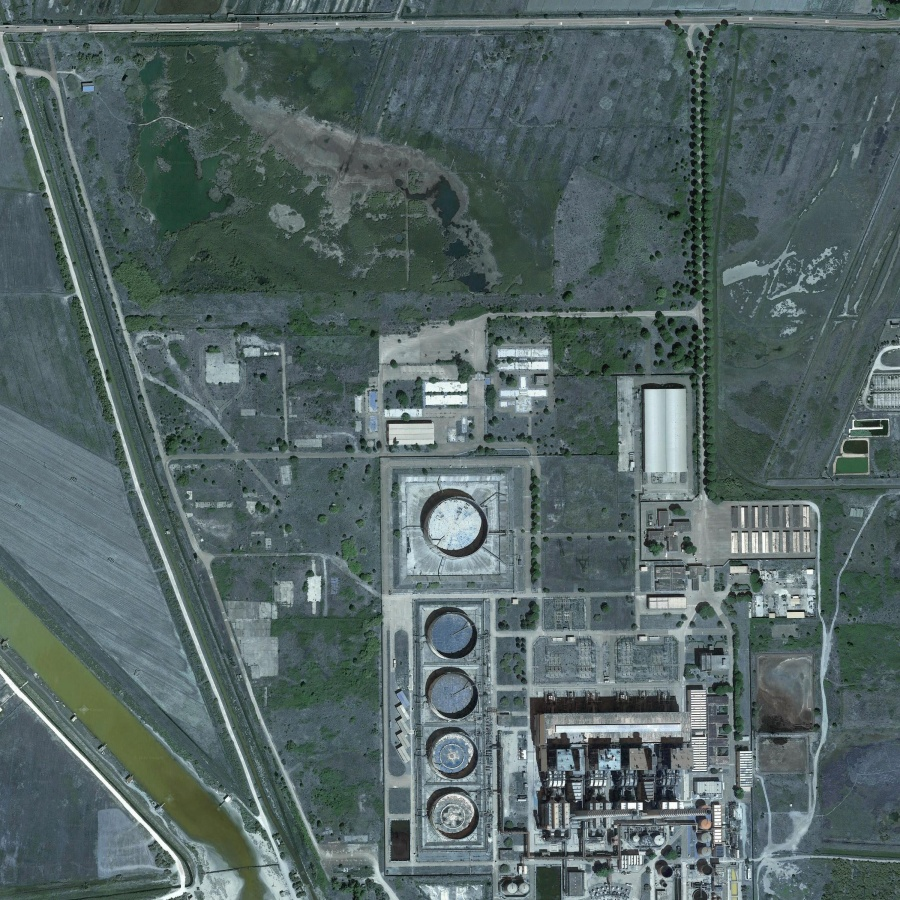PowerPlant: (377, 458, 526, 873)
